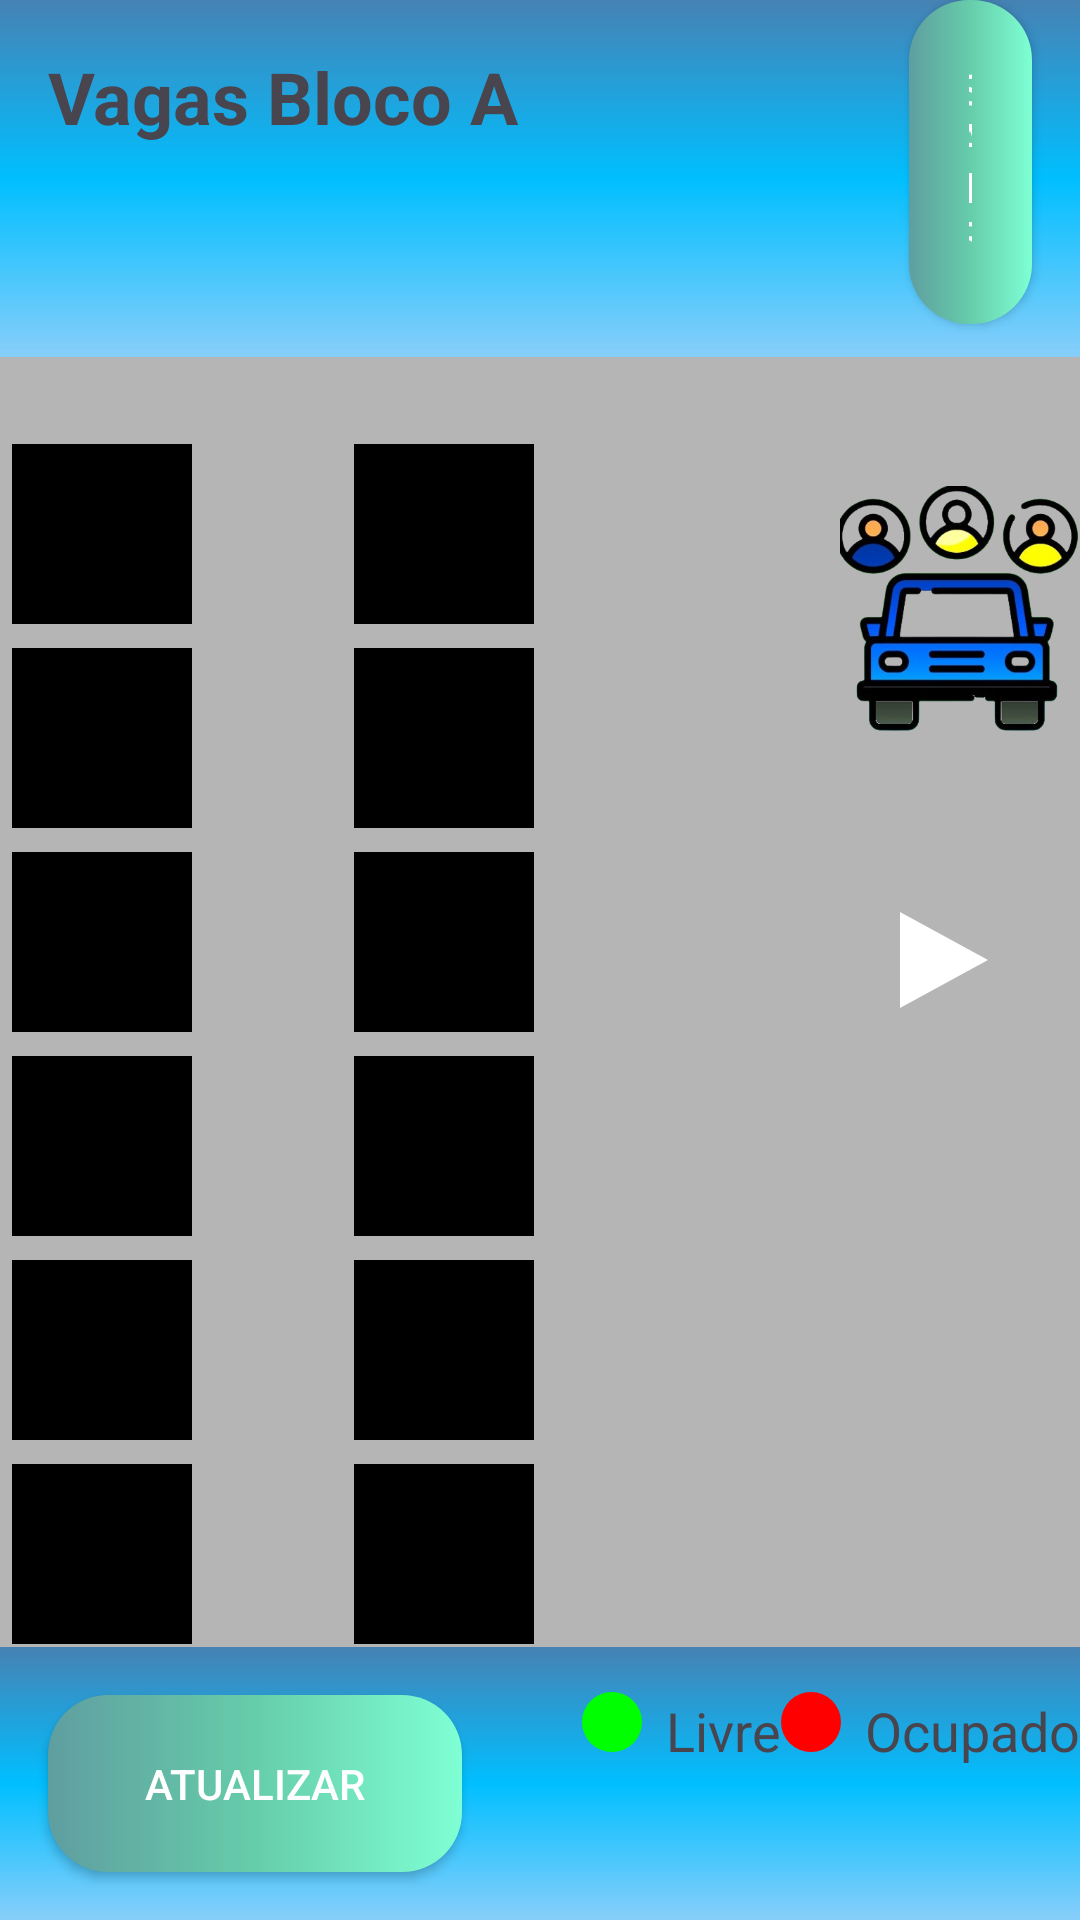

Named icons in this screenshot (1080×1920) and their bounding boxes, (x1, y1, x2, y2):
arrow right: (900, 912, 987, 1008)
